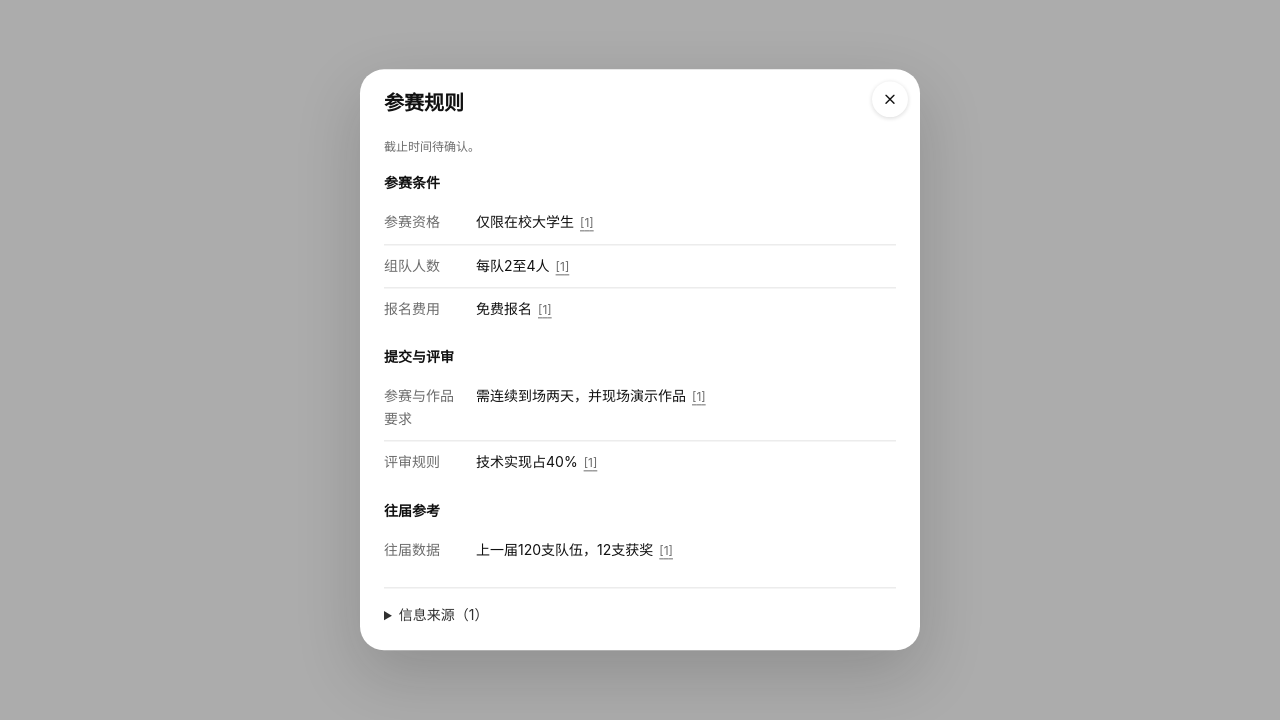
groups sourced participation facts and keeps one shared source entry
This screenshot has width=1280, height=720.
Expected: the text "仅限在校大学生" is shown, [476,214,574,230]
Expected: the element "提交与评审" is shown, [384,347,896,484]
What coordinates should you click on to do the following:
click the button named "查看参赛资格的信息来源 1"
I would click on:
 (587, 224)
Its box is [580,214,594,232].
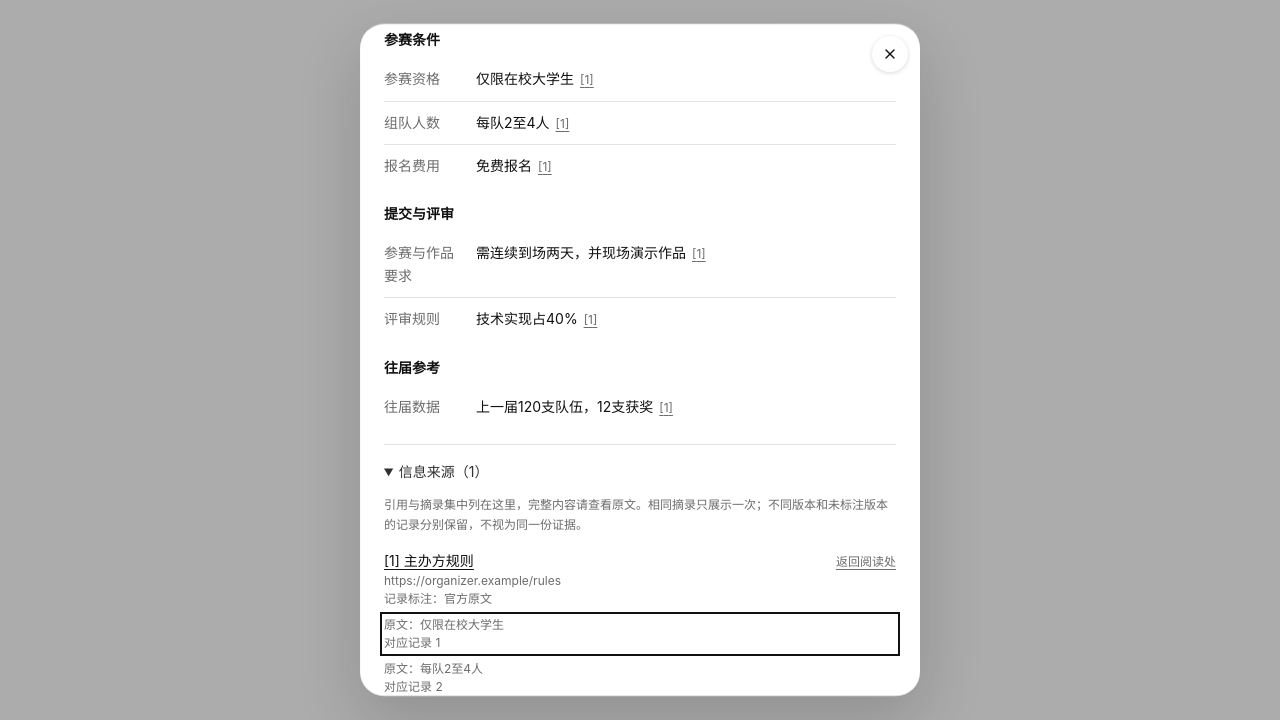
Result: the number of links "[1] 主办方规则" is 1 at [384,550,474,572]
